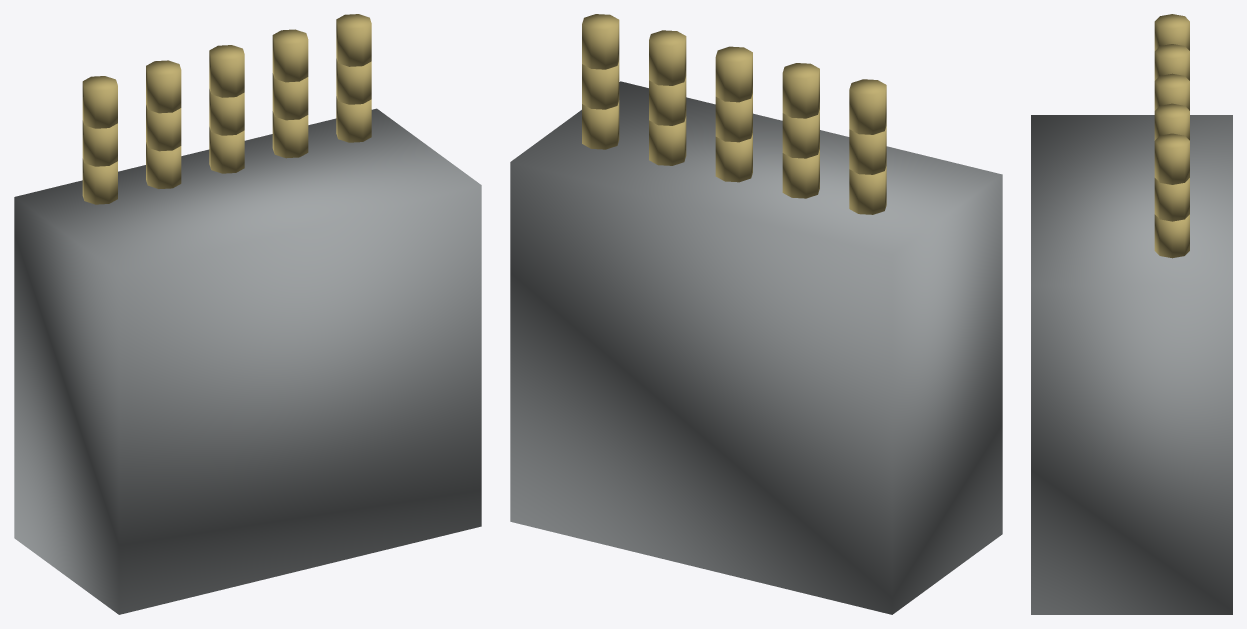
File: votive_candle_stand.glb
The picture shows the model from 3 angles, left to right: view 1: azimuth 30°, elevation 25°; view 2: azimuth 150°, elevation 25°; view 3: azimuth 270°, elevation 25°; orthographic projection. The views are drawn at different scales.
Parts seen in each view (by area): view 1: world; view 2: world; view 3: world.
Boxes of the visible parts, box(x1,y1,x2,y2) form: world: box(14, 14, 481, 614); world: box(510, 14, 1002, 614); world: box(1031, 14, 1232, 614).
Bounding box in the file's own units: 0.8 × 0.98 × 0.4.
